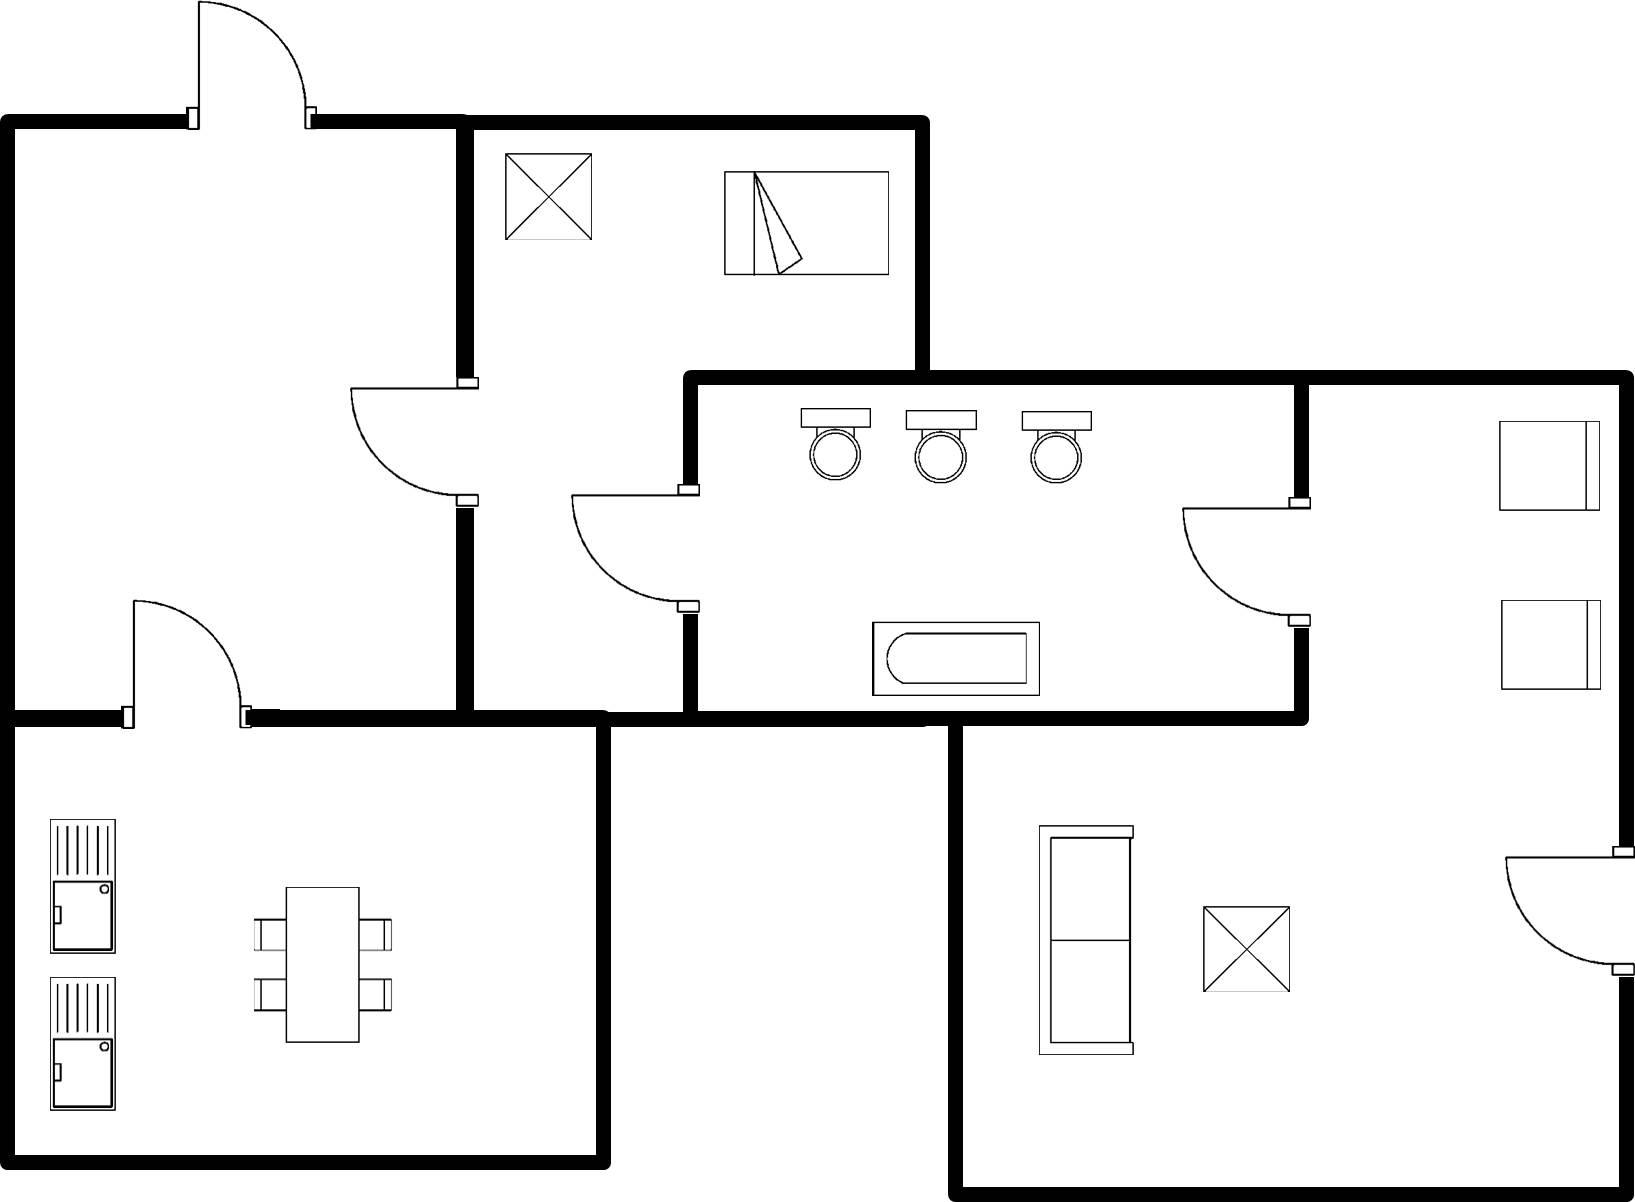bed: (710, 157, 897, 283)
dining_table: (245, 877, 399, 1050)
sink: (39, 971, 127, 1121), (41, 810, 124, 963)
sofa: (1029, 817, 1149, 1064)
toilet: (897, 404, 985, 492), (1009, 400, 1097, 487), (792, 400, 878, 486)
tub: (863, 612, 1047, 704)
